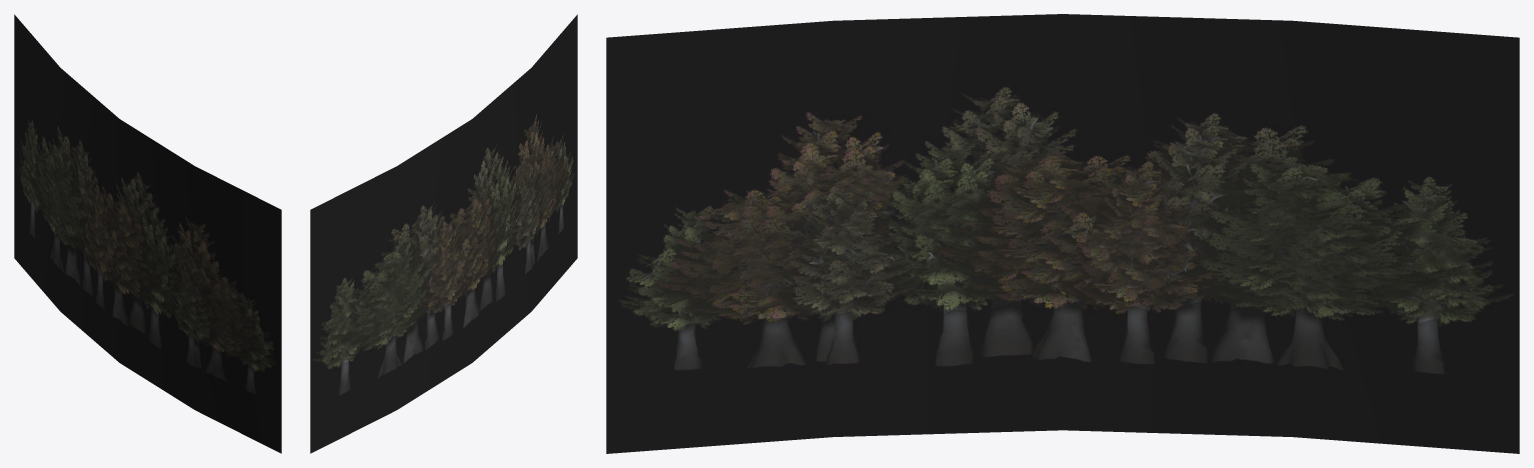
File: halloween_skycard_01.glb
3 views of the same model, side by side, from view 1: azimuth 30°, elevation 25°; view 2: azimuth 150°, elevation 25°; view 3: azimuth 270°, elevation 25° (orthographic). The views are drawn at different scales.
Parts seen in each view (by area): view 1: halloween_skycard_01; view 2: halloween_skycard_01; view 3: halloween_skycard_01.
Part boxes in pixels (x1=…): halloween_skycard_01: x1=14, y1=14, x2=281, y2=453; halloween_skycard_01: x1=310, y1=14, x2=577, y2=453; halloween_skycard_01: x1=606, y1=14, x2=1519, y2=453.
Size of the model in its own units: 0.2059 by 1.69 by 3.36.
Materials: 1 (1 with a texture image).
